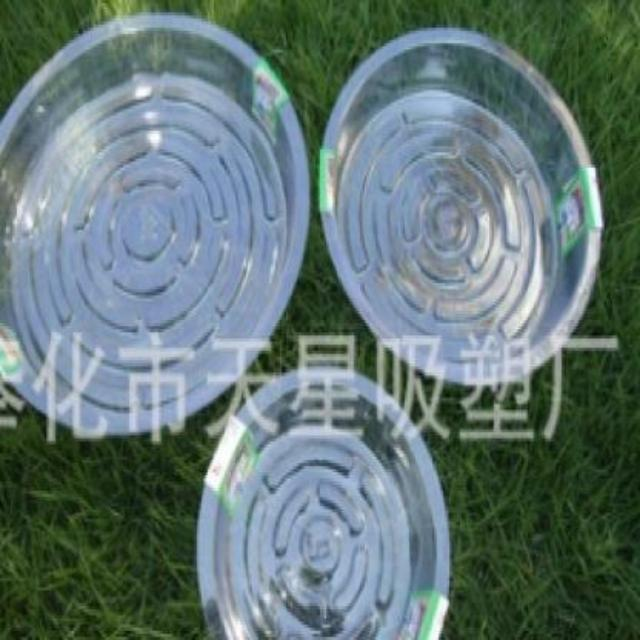plastic_box: (0, 13, 314, 437), (316, 22, 606, 388)
